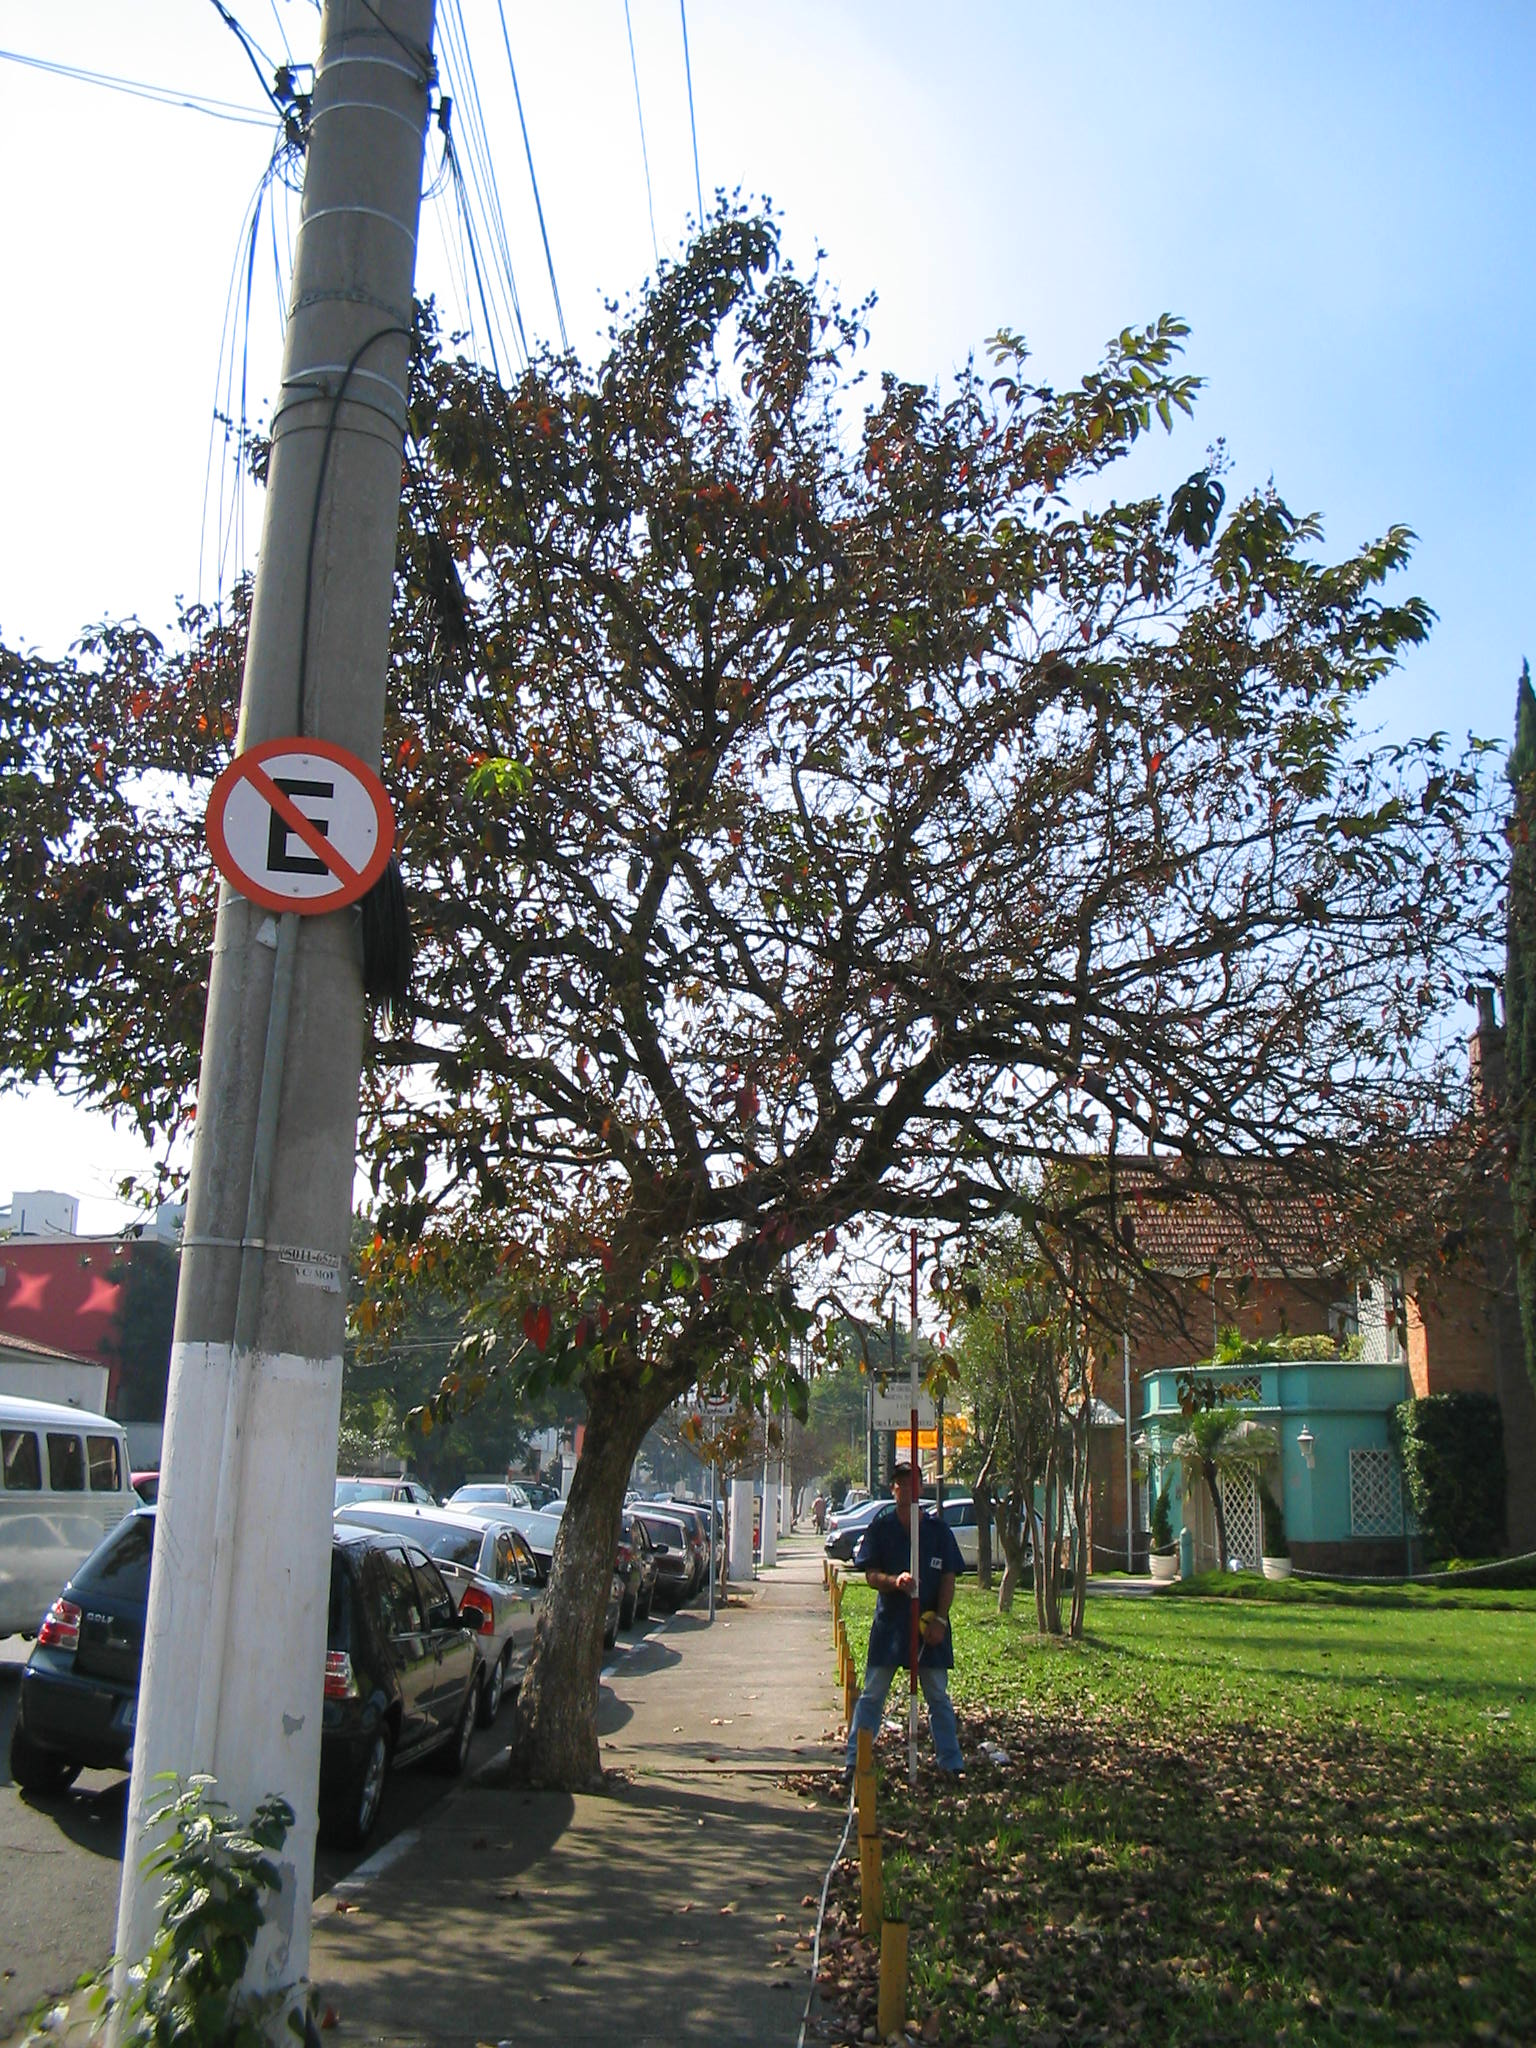crown: (19, 169, 1513, 1397)
stem: (463, 1398, 684, 1785)
stick: (891, 1230, 937, 1796)
tree: (13, 168, 1517, 1790)
